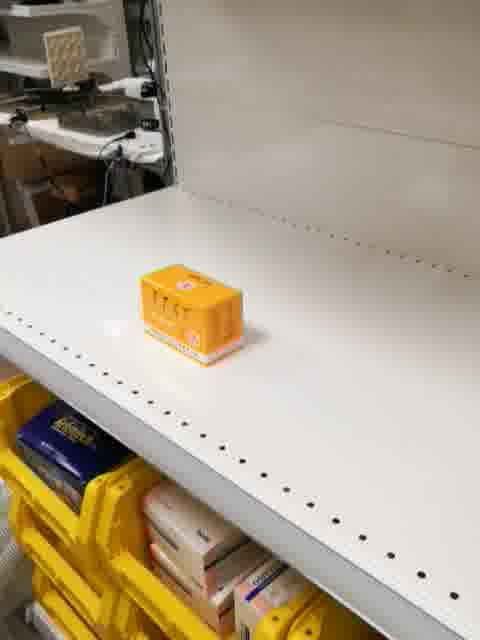jasminetea: (137, 261, 243, 365)
